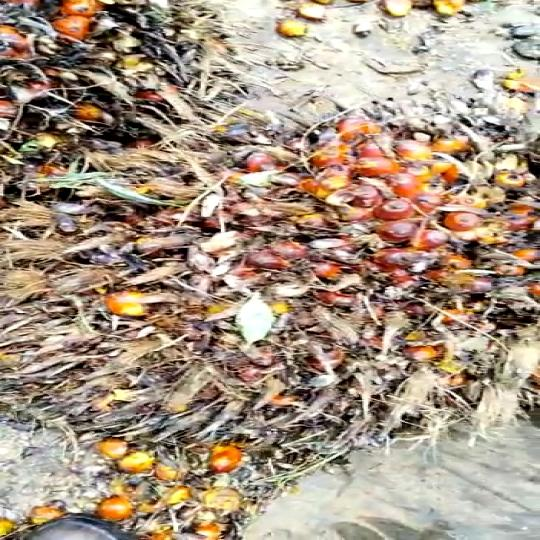terlalu masak: (0, 104, 529, 449)
